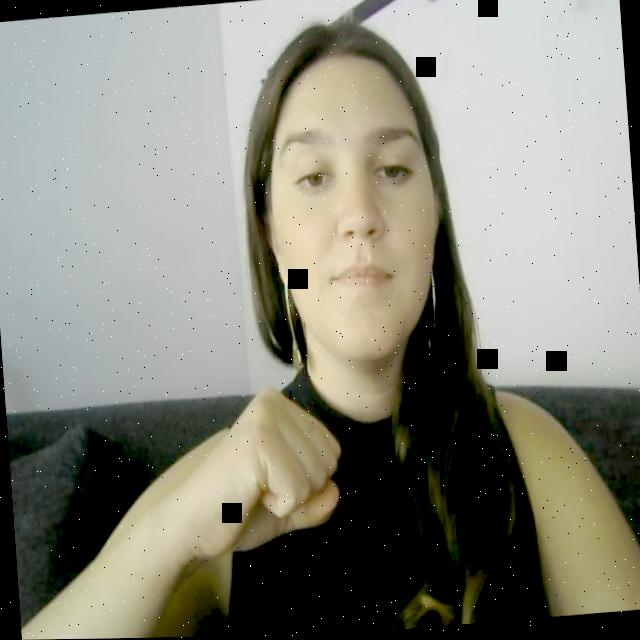Rock: (182, 371, 366, 567)
